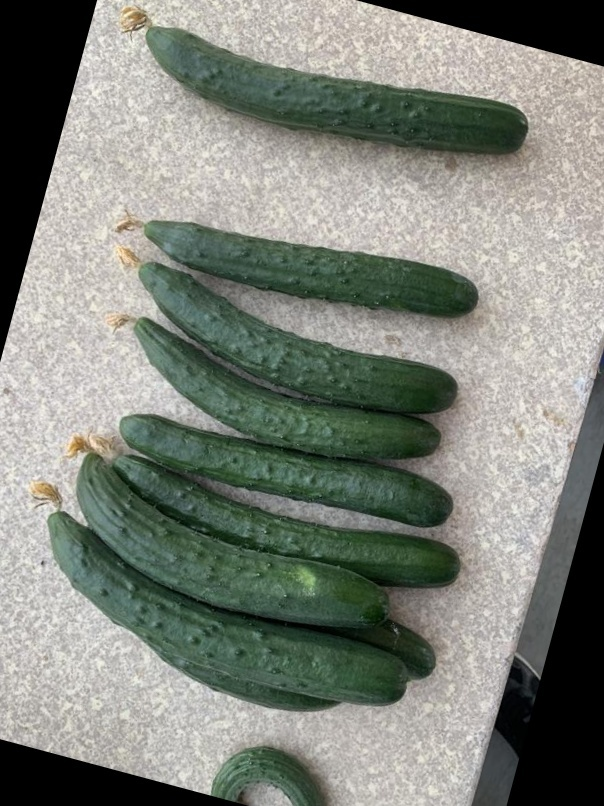mature: (46, 513, 412, 704), (132, 16, 532, 157), (76, 462, 394, 625), (133, 261, 464, 409), (115, 454, 456, 596), (132, 316, 446, 461), (112, 406, 460, 526), (145, 209, 485, 316)
